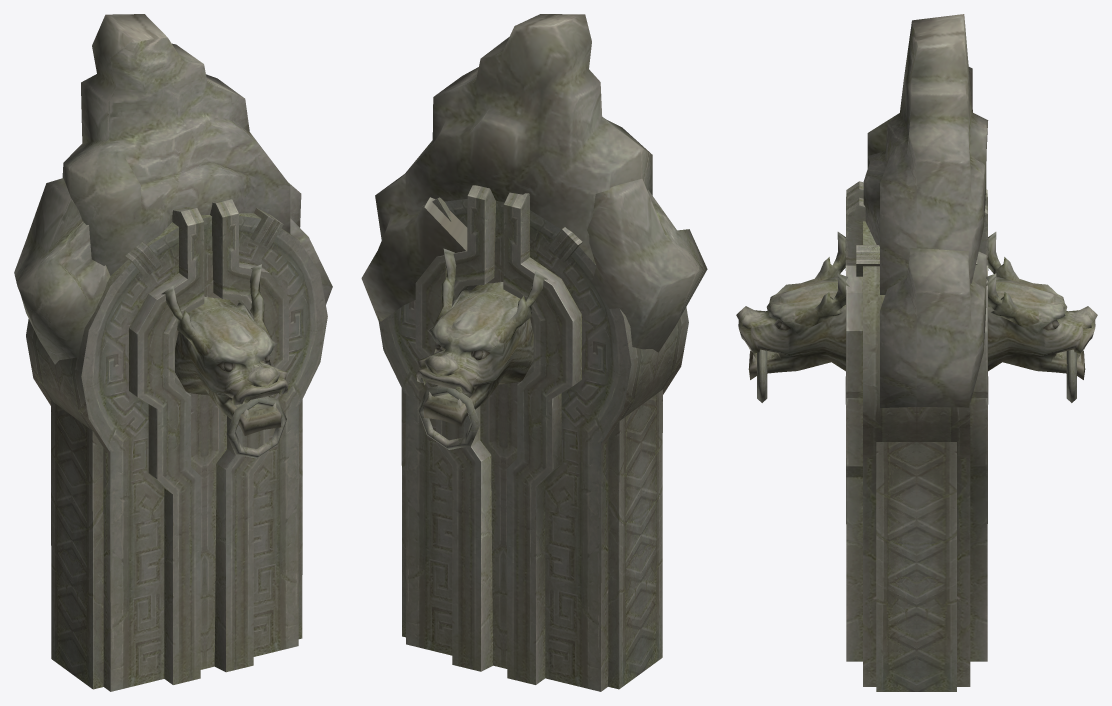
The model's file is wlf_wujian15_jgc.FBX.
The picture shows the model from 3 angles, left to right: view 1: azimuth 30°, elevation 25°; view 2: azimuth 150°, elevation 25°; view 3: azimuth 270°, elevation 25°; orthographic projection. The views are drawn at different scales.
Parts seen in each view (by area): view 1: wlf_wujian15_jgc; view 2: wlf_wujian15_jgc; view 3: wlf_wujian15_jgc.
Part boxes in pixels (<box>): wlf_wujian15_jgc: <box>14,14,332,691</box>; wlf_wujian15_jgc: <box>361,14,707,691</box>; wlf_wujian15_jgc: <box>736,14,1097,691</box>.
Size of the model in its own units: 21.2 by 42.9 by 23.2.
